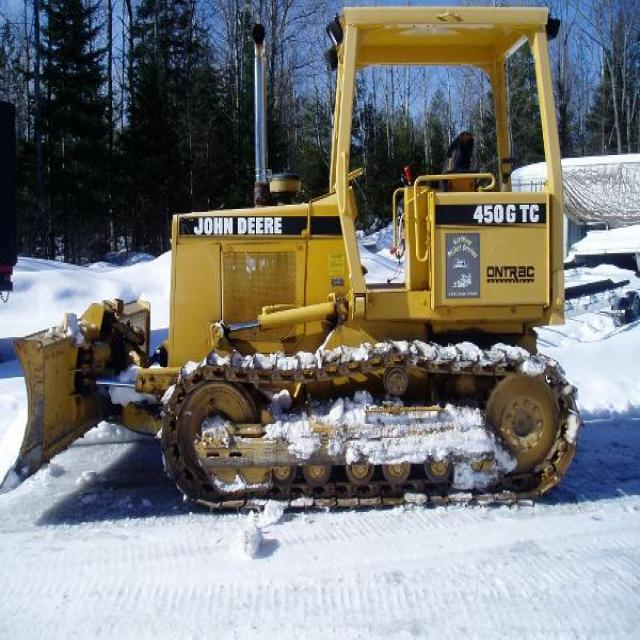Bulldozer: (16, 14, 625, 549)
